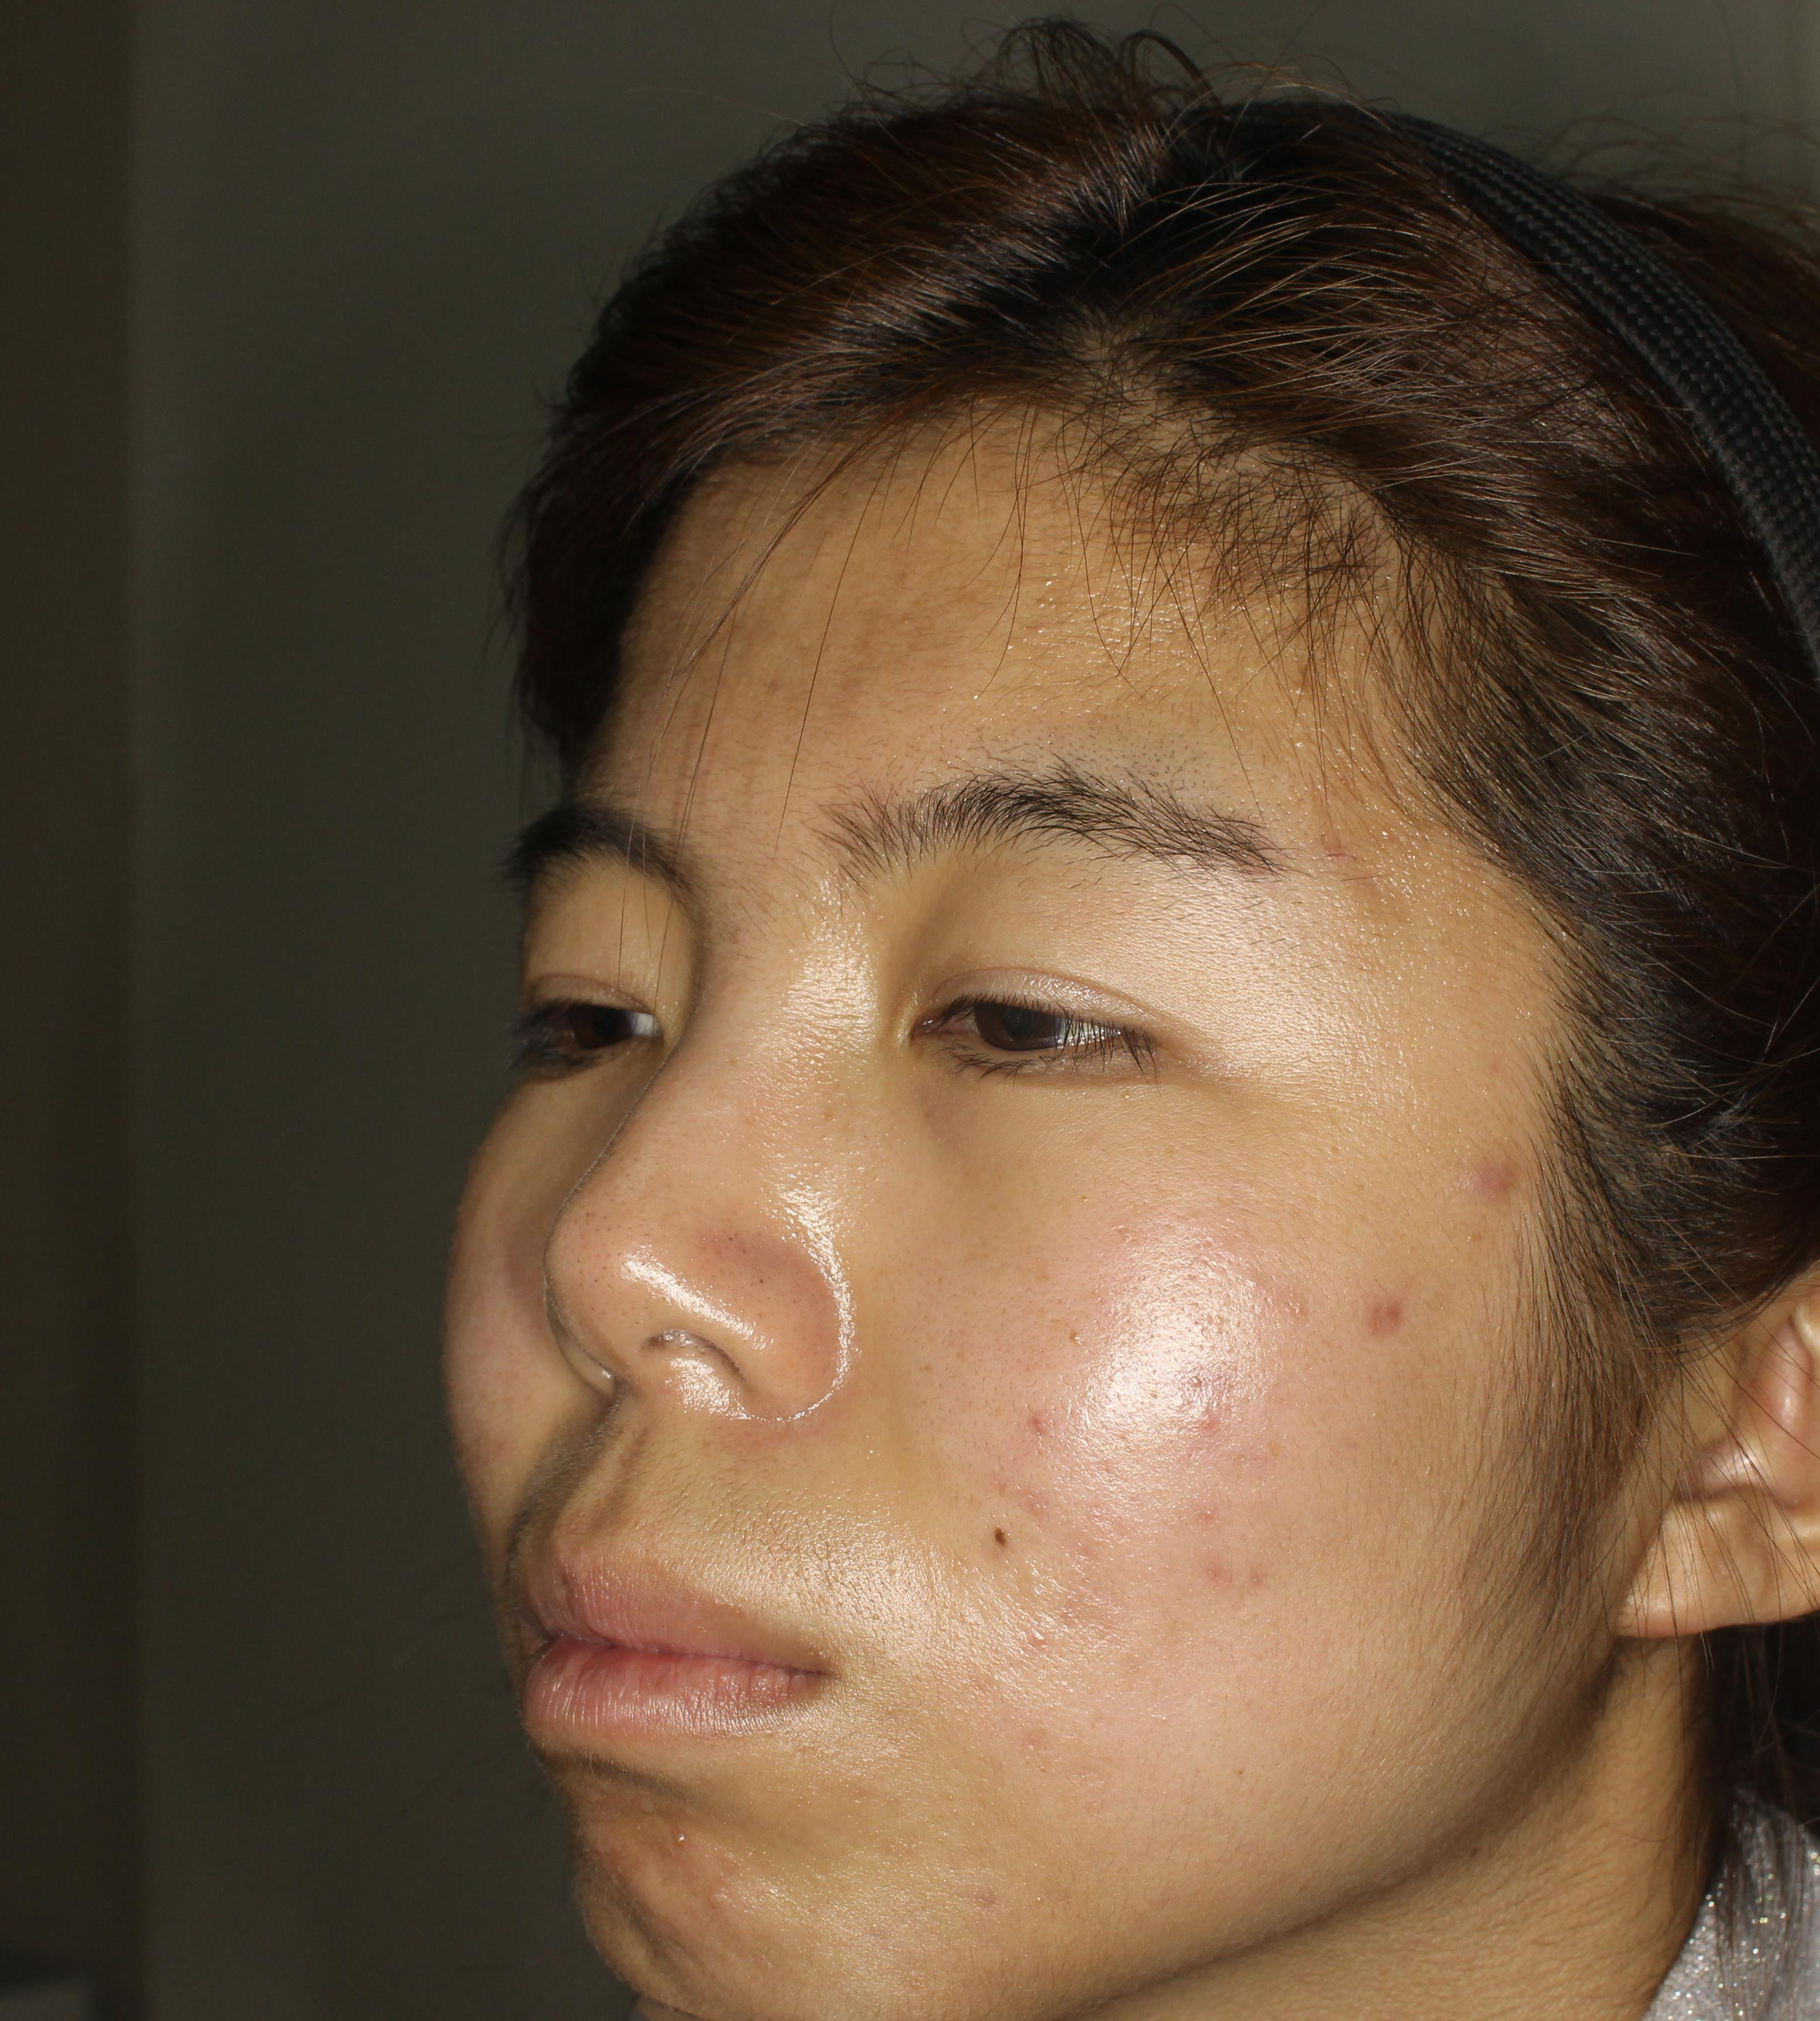fore: (1426, 1115, 1597, 1266), (1193, 1514, 1332, 1652), (1332, 1257, 1426, 1396)
